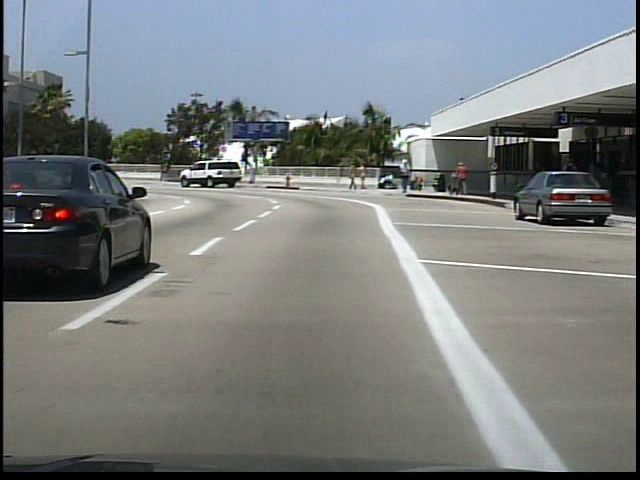person: (560, 152, 583, 208), (456, 160, 472, 195), (401, 158, 414, 198), (349, 163, 360, 193), (360, 162, 370, 193)
